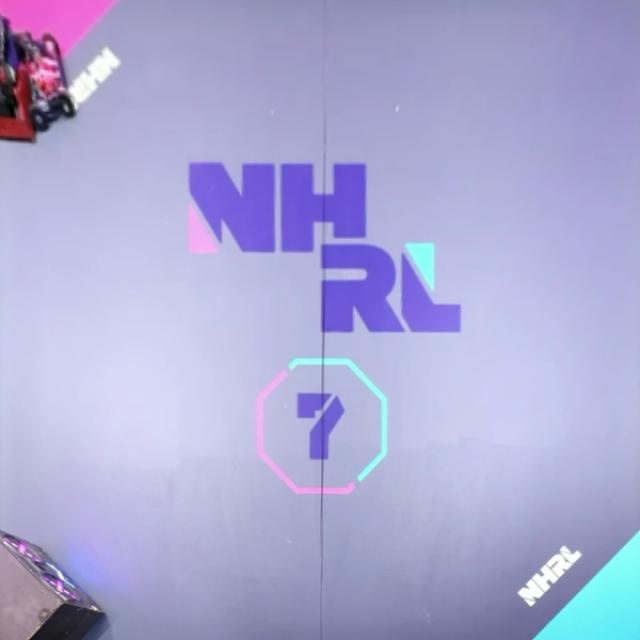housebot: (0, 530, 106, 640)
robot: (15, 33, 76, 129), (0, 20, 35, 140)
